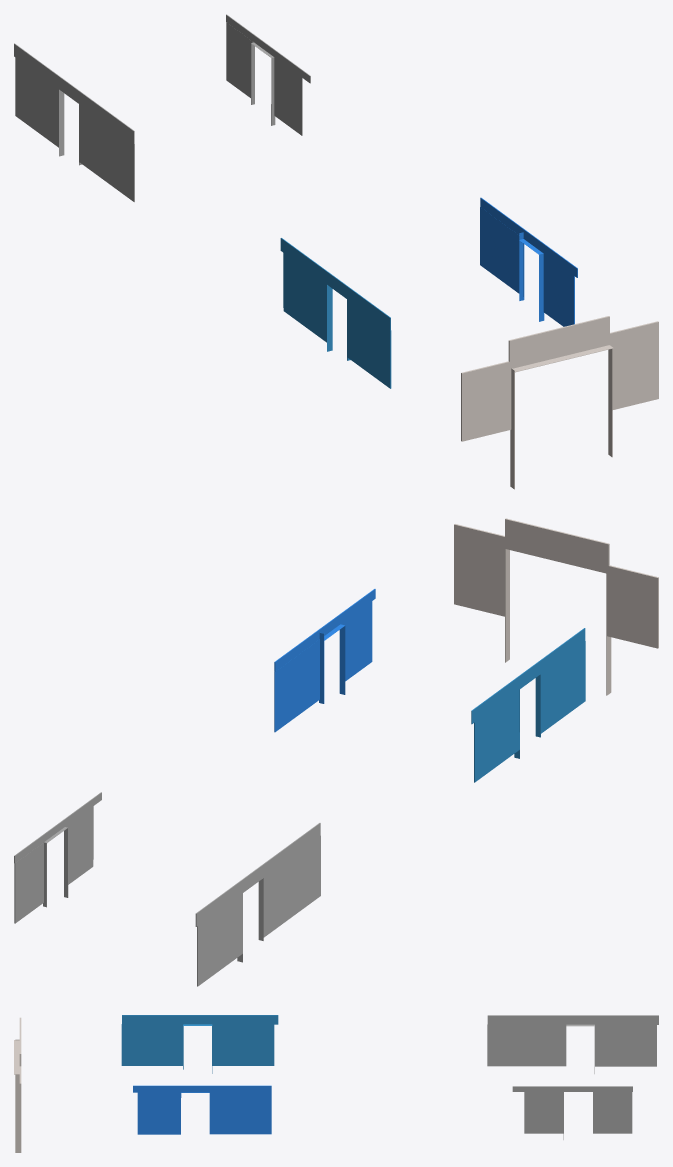
File: WALLS.fbx
3 views of the same model, one above another, from view 1: azimuth 30°, elevation 25°; view 2: azimuth 150°, elevation 25°; view 3: azimuth 270°, elevation 25° (orthographic). The views are drawn at different scales.
Parts seen in each view (by area): view 1: Cube__5_.001, Cube_4.001, Cube_3.001, Cube_2.001, Cube__5__1.001; view 2: Cube__5_.001, Cube_4.001, Cube_3.001, Cube_2.001, Cube__5__1.001; view 3: Cube_4.001, Cube_3.001, Cube_2.001, Cube__5__1.001, Cube__5_.001.
Part boxes in pixels (box(x1,y1,x2,y2)): Cube__5_.001: box(461, 316, 658, 489); Cube_4.001: box(14, 43, 134, 202); Cube_3.001: box(280, 238, 391, 388); Cube_2.001: box(480, 197, 577, 326); Cube__5__1.001: box(226, 14, 310, 135); Cube__5_.001: box(454, 518, 658, 695); Cube_4.001: box(195, 823, 320, 986); Cube_3.001: box(471, 628, 585, 782); Cube_2.001: box(274, 589, 375, 732); Cube__5__1.001: box(14, 792, 101, 923); Cube_4.001: box(487, 1015, 658, 1073); Cube_3.001: box(121, 1015, 278, 1073); Cube_2.001: box(133, 1085, 271, 1134); Cube__5__1.001: box(512, 1086, 632, 1139); Cube__5_.001: box(14, 1017, 21, 1152).
Size of the model in its own units: 590 by 418 by 2333.
